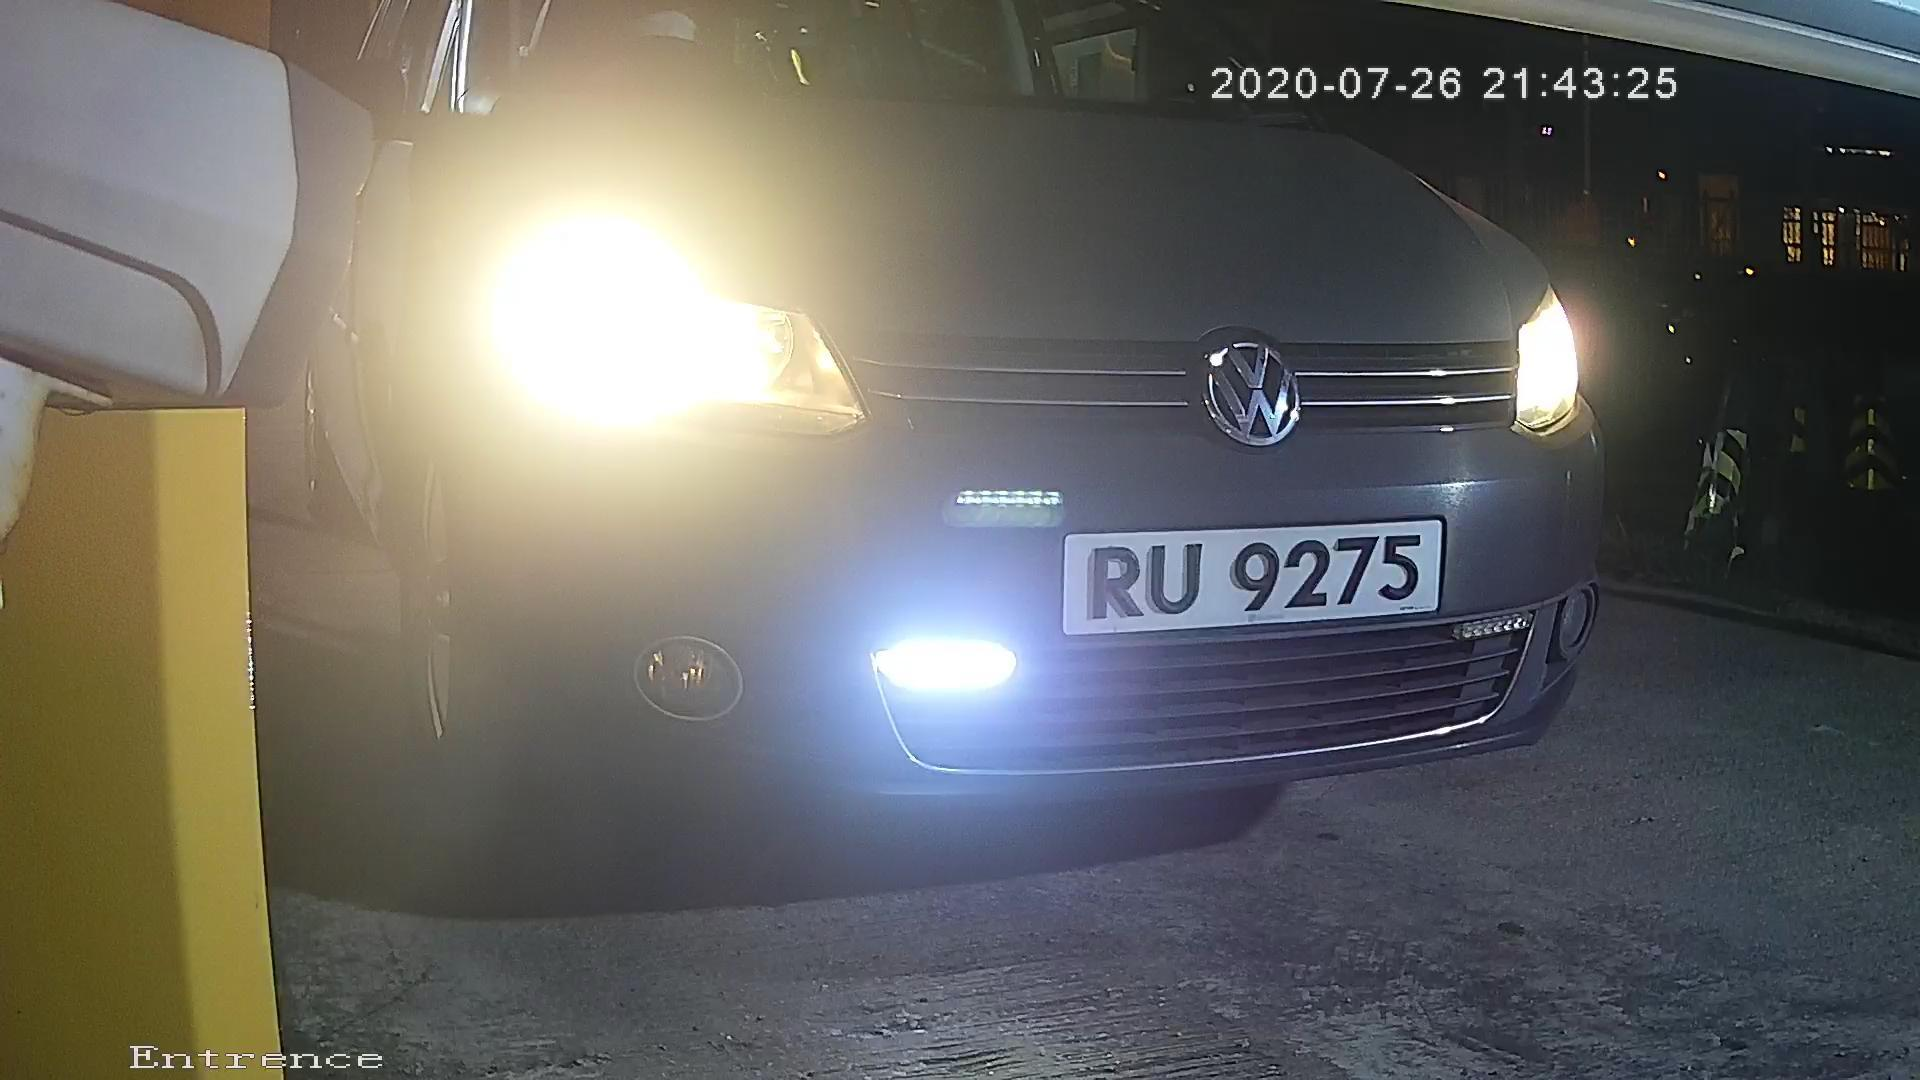Car: (52, 25, 1749, 912)
License Plate: (1055, 502, 1441, 647)
